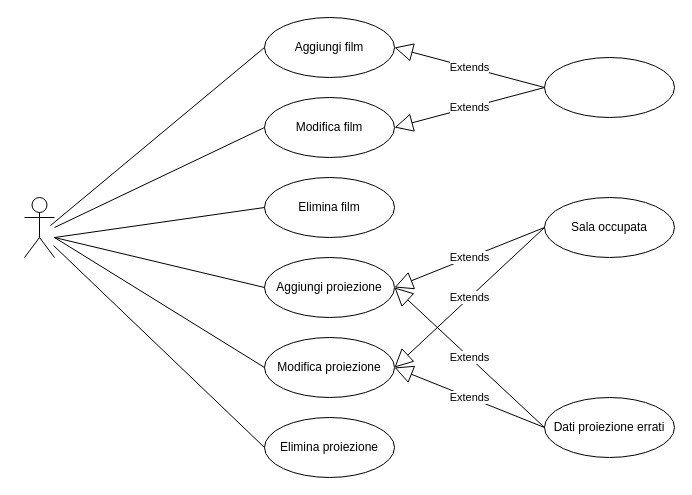
Image size: 692x495. Some labels were removed from this diagram. The centre of each missing label's shape, as x and y in pixels:
Dati film errati: [609,87]
Gestore catalogo: [39,227]
